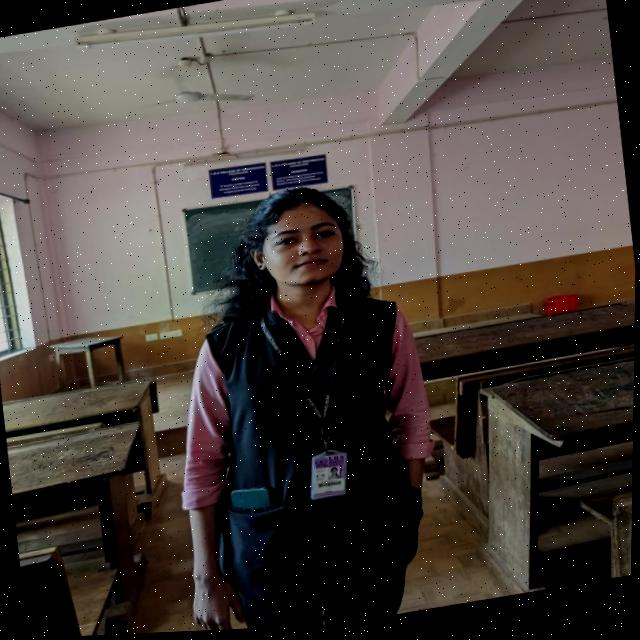id_card: (251, 282, 380, 518)
